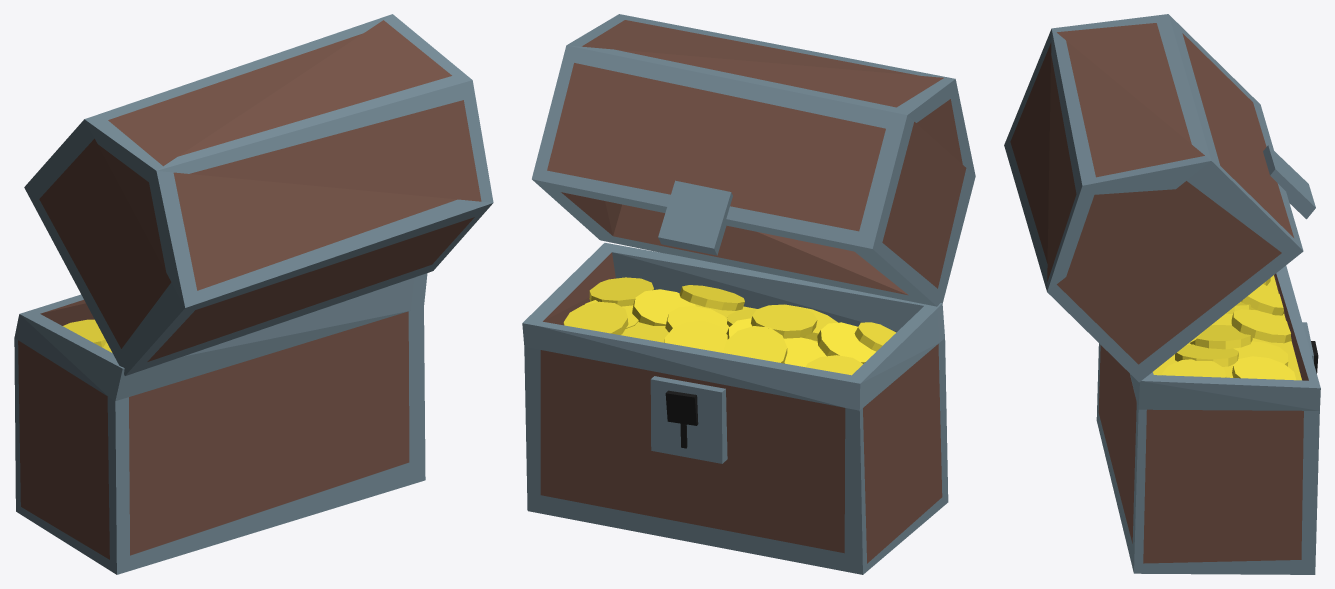
Rendered from treasureboxboi-awxWWNeacBX.obj.
3 views of the same model, side by side, from view 1: azimuth 30°, elevation 25°; view 2: azimuth 150°, elevation 25°; view 3: azimuth 270°, elevation 25° (orthographic). The views are drawn at different scales.
Visible parts, largest first — view 1: group935273667, group2022616159, group1008837905; view 2: group2022616159, group935273667, group644358503, group322907258, group1589209115, group979148097, group869406863, group1101660496, group1809134647, group617312155, group423595962, group976427623 (+6 smaller); view 3: group935273667, group2022616159, group322907258, group617312155, group869406863, group756330454, group1809134647, group423595962, group1589209115, group2118260747.
Part boxes in pixels (<box>): group935273667: <box>24,14,493,375</box>; group2022616159: <box>14,273,427,574</box>; group1008837905: <box>63,319,106,347</box>; group2022616159: <box>522,243,948,574</box>; group935273667: <box>532,14,975,306</box>; group644358503: <box>650,376,727,463</box>; group322907258: <box>658,180,732,255</box>; group1589209115: <box>722,326,787,363</box>; group979148097: <box>751,304,817,338</box>; group869406863: <box>563,301,628,334</box>; group1101660496: <box>817,322,875,363</box>; group1809134647: <box>632,289,695,325</box>; group617312155: <box>664,321,727,352</box>; group423595962: <box>589,277,653,306</box>; group976427623: <box>679,285,744,310</box>; group935273667: <box>1004,14,1303,382</box>; group2022616159: <box>1096,265,1320,574</box>; group322907258: <box>1263,145,1315,219</box>; group617312155: <box>1231,309,1291,343</box>; group869406863: <box>1232,356,1295,380</box>; group756330454: <box>1190,325,1252,349</box>; group1809134647: <box>1175,344,1238,366</box>; group423595962: <box>1162,359,1226,377</box>; group1589209115: <box>1241,284,1284,315</box>; group2118260747: <box>1233,341,1288,366</box>.
Bounding box in the file's own units: 1.37 × 1.61 × 1.1.
